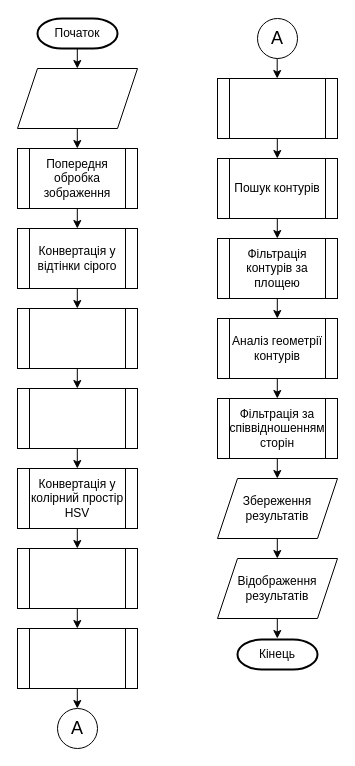
The diagram is 355 pixels wide and 766 high, and some of its shapes have lost their labels. The box of each missing label's shape, as (x1, y1, x2, y2) in pixels:
Завантаження зображення: (16, 68, 138, 128)
Морфологічна операція: відкриття: (16, 628, 138, 688)
Морфологічна операція: закриття: (216, 78, 338, 138)
Підвищення контрасту CLAHE: (16, 388, 138, 448)
Розмиття Гауса: (16, 308, 138, 368)
Створення бінаризованої маски: (16, 548, 138, 608)
